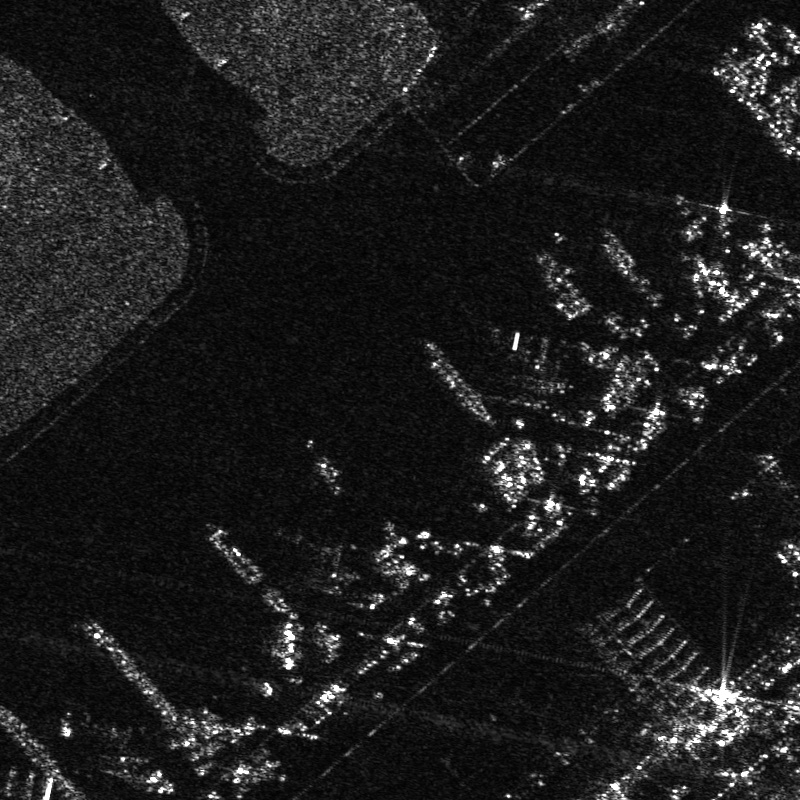Boeing787: (67, 704, 174, 789)
other: (488, 323, 580, 403), (275, 525, 358, 586)
